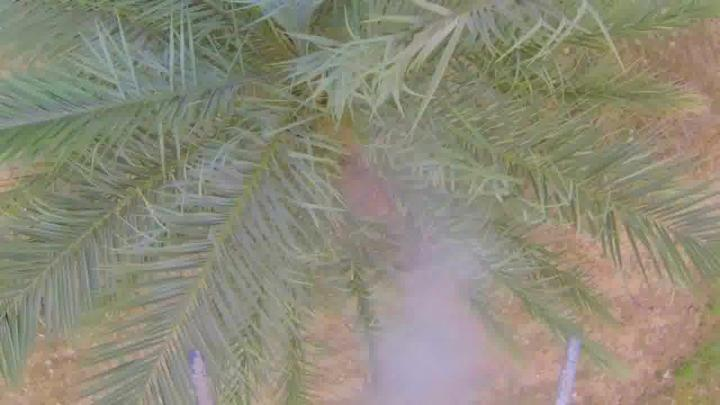Date-Palm-Crown: (46, 0, 534, 320)
